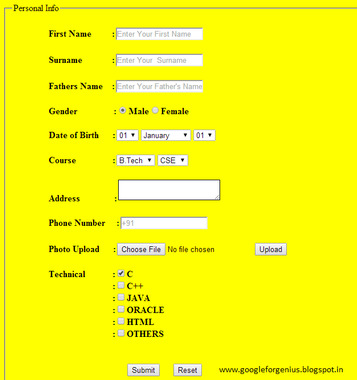_form_: (1, 1, 357, 380)
button: (116, 242, 167, 257), (254, 241, 287, 257), (172, 363, 205, 377), (127, 363, 161, 376)
checkbox: (116, 304, 127, 316), (116, 315, 127, 327), (116, 327, 127, 339), (116, 267, 125, 279), (117, 291, 125, 304), (116, 281, 125, 290)
checkbox_with_label: (114, 326, 165, 341), (114, 303, 164, 317), (114, 290, 151, 304), (113, 316, 152, 327), (113, 278, 143, 292), (114, 265, 134, 279)
field: (116, 178, 222, 203), (114, 53, 204, 69), (117, 216, 209, 231), (114, 26, 203, 41), (114, 79, 204, 93)
field_with_label: (49, 176, 223, 205), (48, 51, 206, 70), (49, 214, 211, 232), (49, 24, 204, 42), (48, 78, 205, 94), (49, 241, 169, 258), (50, 151, 158, 168), (50, 126, 140, 144)
radio: (118, 105, 128, 115), (152, 105, 162, 115)
radio_with_label: (151, 103, 190, 116), (116, 103, 149, 116)
select: (140, 128, 191, 142), (115, 153, 157, 167), (158, 154, 188, 167), (116, 127, 140, 143), (192, 128, 216, 142)
